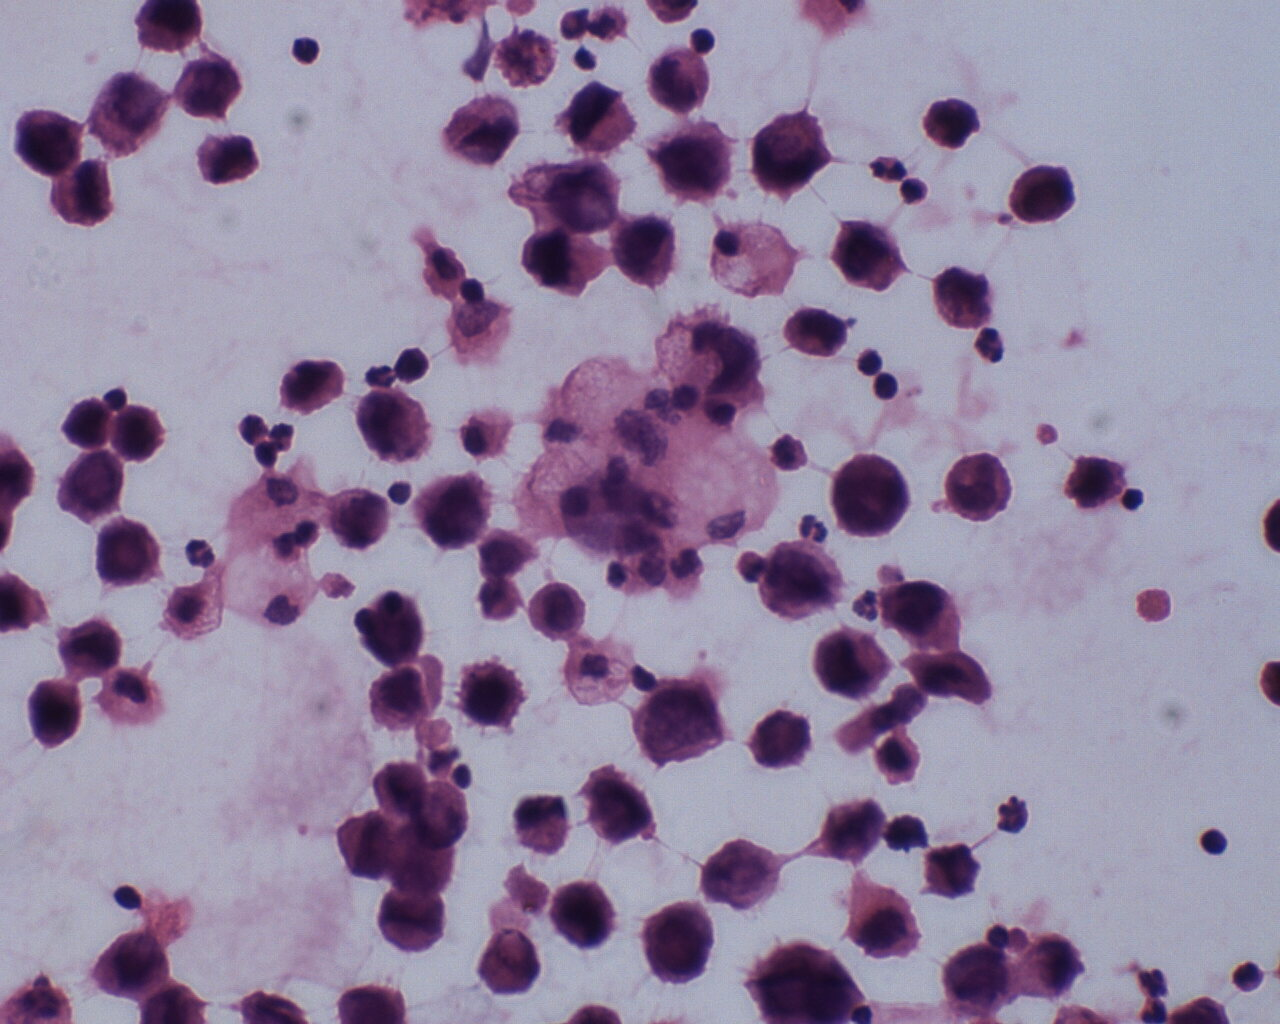ab: (634, 678, 731, 770), (830, 444, 914, 544), (749, 104, 838, 197), (349, 386, 444, 472), (752, 533, 840, 626), (650, 118, 736, 203), (413, 468, 496, 551), (641, 897, 714, 988), (583, 766, 664, 848), (92, 923, 174, 1003), (9, 99, 87, 184), (831, 214, 909, 295), (555, 77, 633, 156), (812, 629, 894, 702), (942, 944, 1026, 1016), (890, 571, 964, 650), (372, 888, 452, 958), (453, 655, 526, 731), (616, 212, 684, 293), (97, 514, 164, 594), (945, 449, 1017, 521), (61, 449, 131, 523), (549, 875, 616, 951), (174, 50, 246, 120), (51, 616, 126, 682), (750, 708, 819, 777), (1008, 162, 1081, 227), (49, 156, 112, 230), (25, 676, 85, 753), (193, 130, 264, 188), (781, 304, 853, 360), (107, 400, 165, 464)
histo: (711, 211, 798, 300), (561, 630, 636, 712)
lymph: (1196, 821, 1231, 861), (868, 371, 904, 401)
meso: (521, 582, 591, 645)
neutro: (971, 323, 1008, 365), (183, 534, 218, 571), (797, 512, 831, 551), (851, 588, 883, 625)
